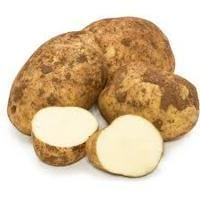biodegradable: (6, 31, 106, 137), (97, 62, 200, 142), (82, 16, 176, 75), (85, 113, 164, 178), (30, 106, 101, 167)
